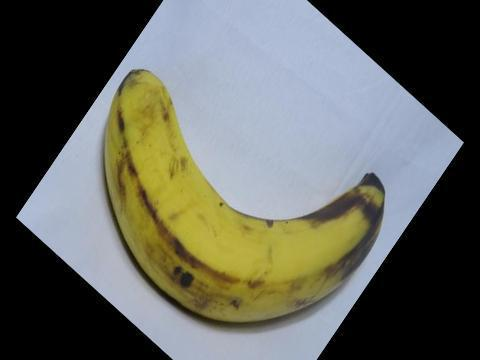ripe: (92, 65, 396, 329)
